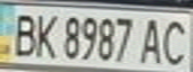7: (112, 14, 139, 63)
8: (57, 11, 81, 61), (97, 14, 118, 62)
9: (78, 12, 100, 61)
A: (136, 15, 169, 65)
B: (6, 9, 39, 58)
C: (157, 16, 193, 68)
K: (30, 10, 60, 58)
